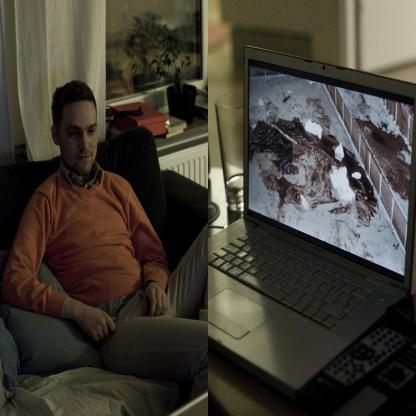board: (188, 39, 414, 416), (216, 91, 245, 217)
